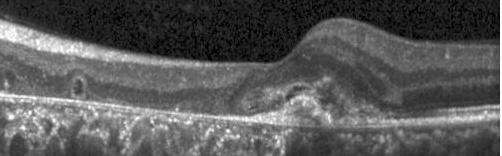intraretinal_cyst: (320, 87, 345, 118), (74, 80, 83, 95), (293, 87, 310, 92), (285, 95, 295, 100)
subretinal_fluid: (294, 106, 322, 127)
subretinal_hyperreflective_material: (219, 94, 404, 126)
